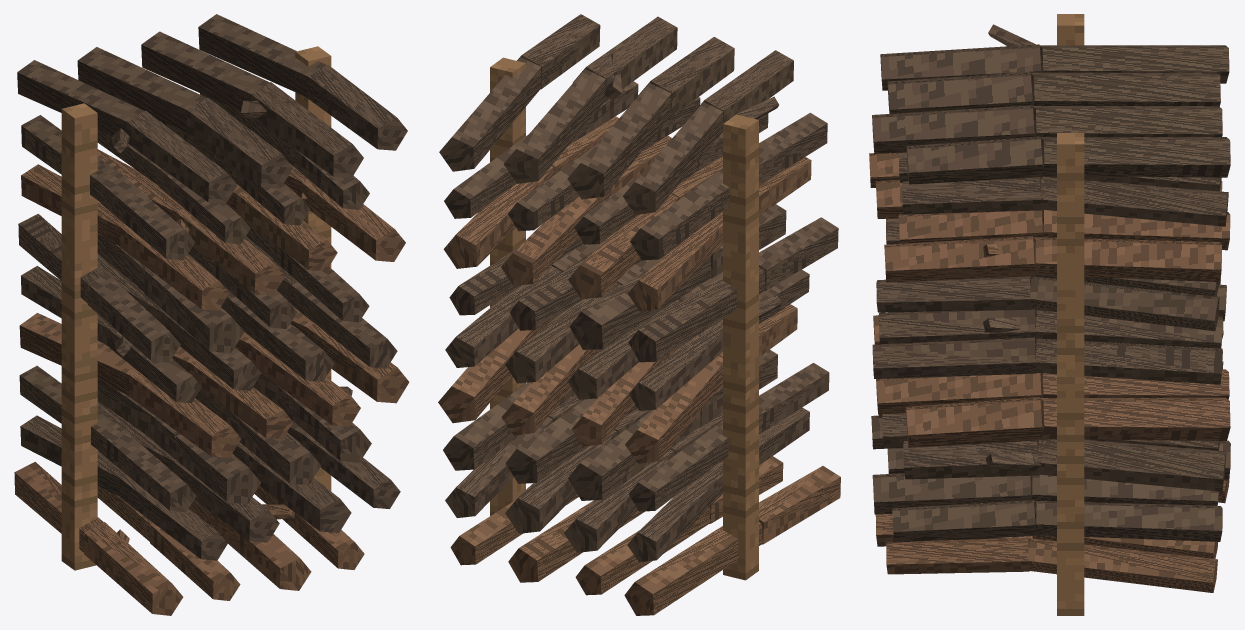
Rendered from f_stick_long_stack_mid.glb.
The picture shows the model from 3 angles, left to right: view 1: azimuth 30°, elevation 25°; view 2: azimuth 150°, elevation 25°; view 3: azimuth 270°, elevation 25°; orthographic projection. The views are drawn at different scales.
Parts seen in each view (by area): view 1: block_stacked-stick-2 (×36), block_stacked-stick-1 (×20), block_stack-retaining-stake (×2); view 2: block_stacked-stick-1 (×36), block_stacked-stick-2 (×22), block_stack-retaining-stake (×2); view 3: block_stacked-stick-1 (×20), block_stacked-stick-2 (×20), block_stack-retaining-stake (×2), block_short-fork-on-branch (×3).
Boxes of the visible parts, x1,y1,x2,y2 form: block_stacked-stick-2 (×36): (84,65,409,615); block_stacked-stick-1 (×20): (14,14,326,552); block_stack-retaining-stake (×2): (61,46,331,570); block_stacked-stick-1 (×36): (438,57,765,615); block_stacked-stick-2 (×22): (517,14,840,544); block_stack-retaining-stake (×2): (490,57,758,580); block_stacked-stick-1 (×20): (1028,45,1230,592); block_stacked-stick-2 (×20): (869,44,1043,574); block_stack-retaining-stake (×2): (1057,14,1084,615); block_short-fork-on-branch (×3): (983,24,1041,471).
Bounding box in the file's own units: 0.8295 × 1.35 × 0.9386.
1 material, 1 textured.
